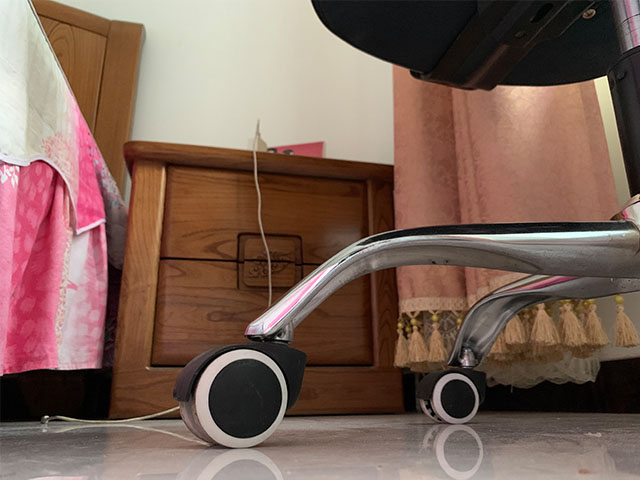bed: (1, 1, 146, 411)
cabinet: (107, 138, 409, 420)
curtain: (392, 63, 640, 376)
wire: (39, 117, 274, 425)
